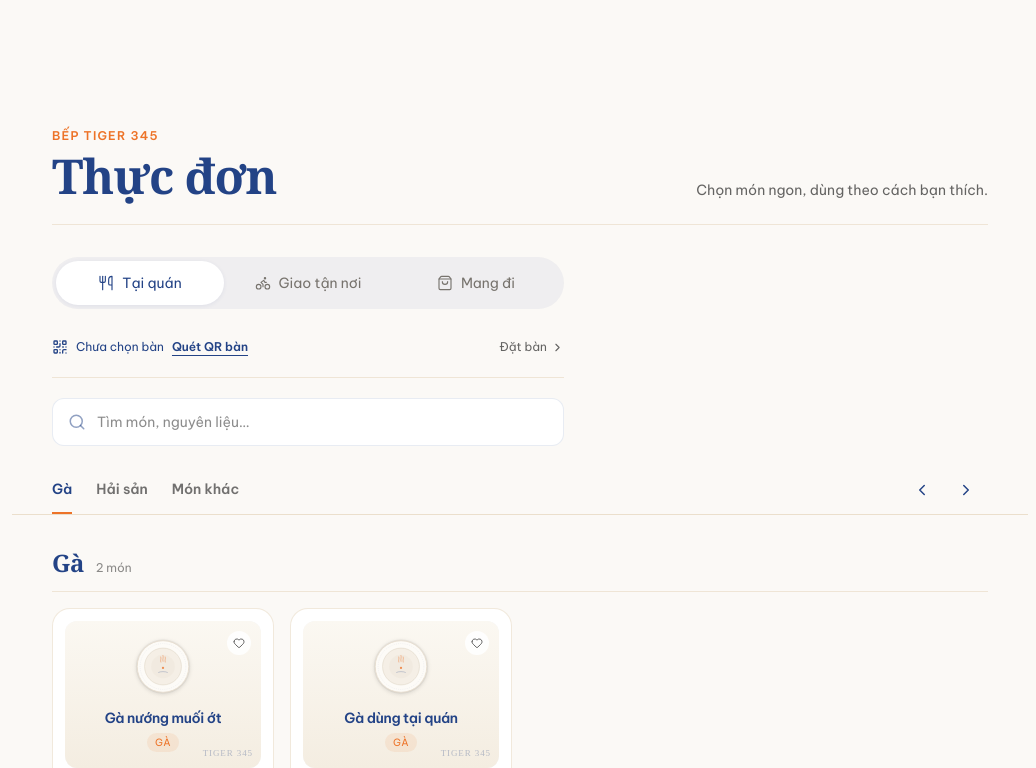
Test: MenuPage category navigation › switches groups without retaining the previous dishes, including uncategorized dishes
Click the button "Hải sản". click: x=122, y=490
box: [96,466,148,514]
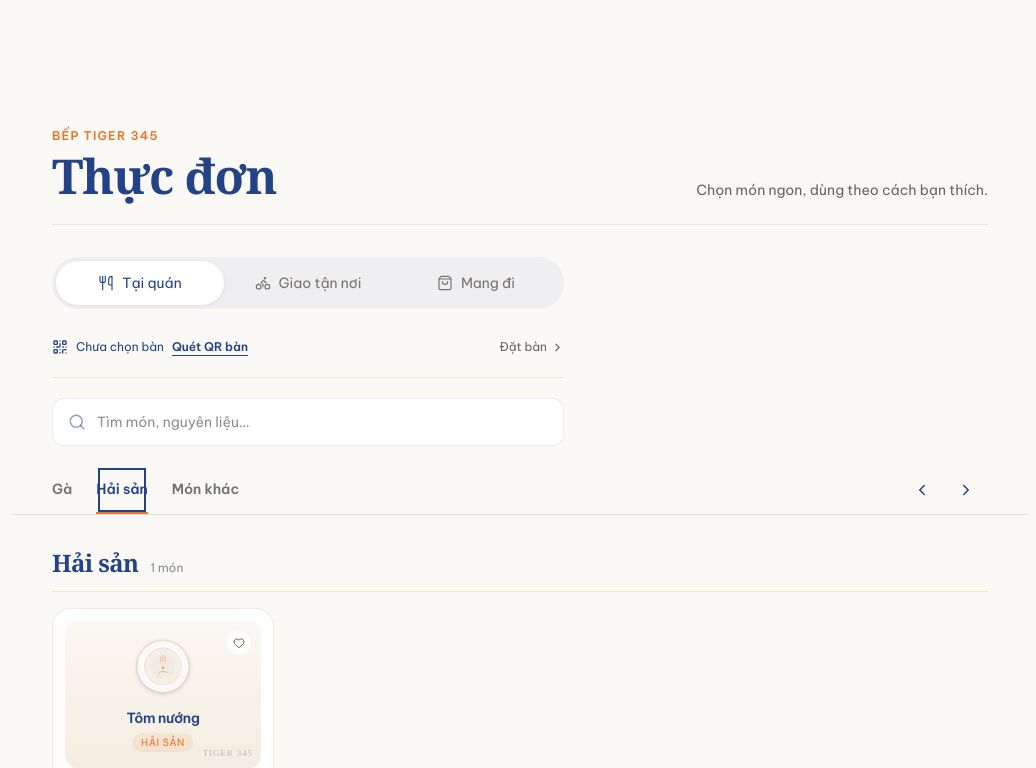
Check: the text "Gà nướng muối ớt" is gone
Click the button "Món khác". click: x=206, y=490
box: [172,466,239,514]
(page scrolled)
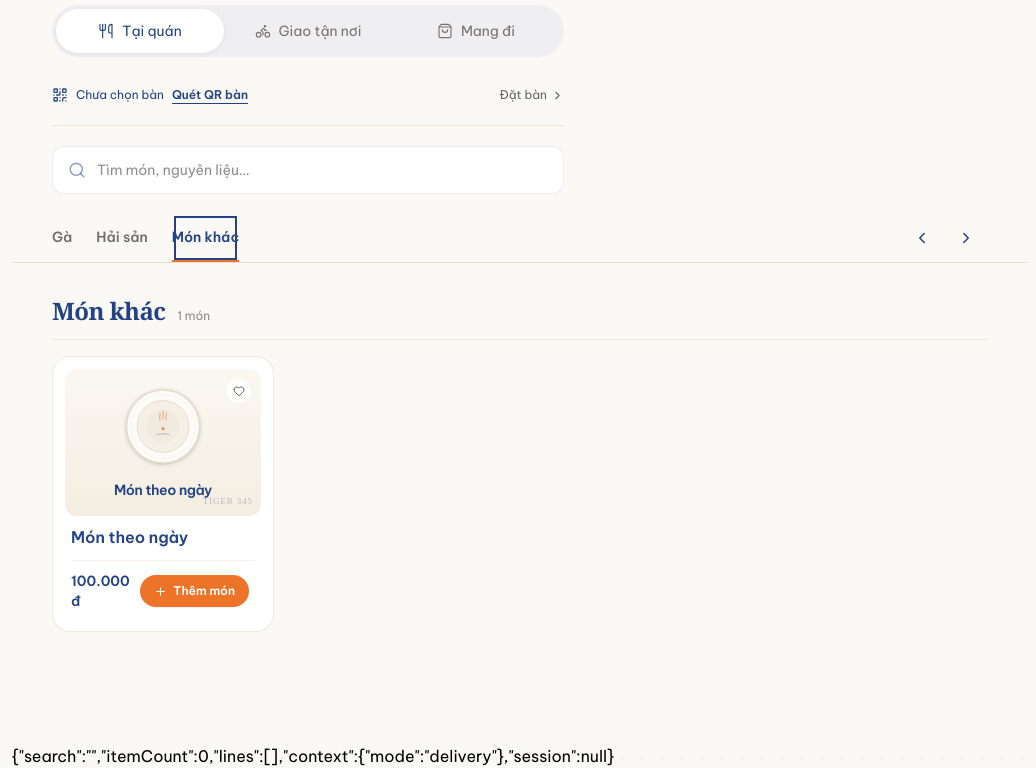
Check: the heading "Món theo ngày" is shown, box [71,526,188,548]
Check: the text "Tôm nướng" is gone
